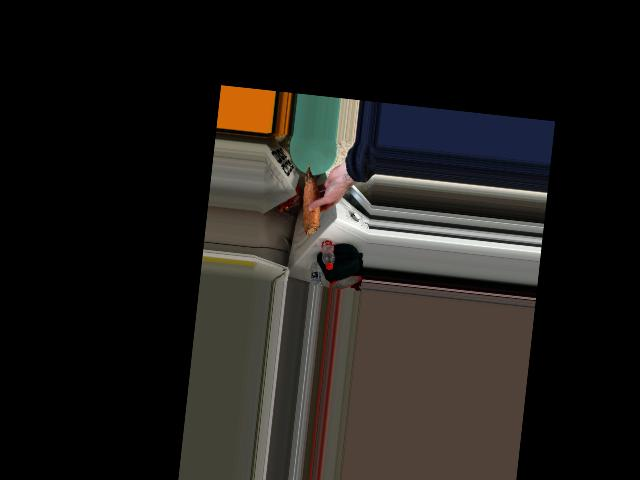sweet_potato: (300, 166, 322, 238)
